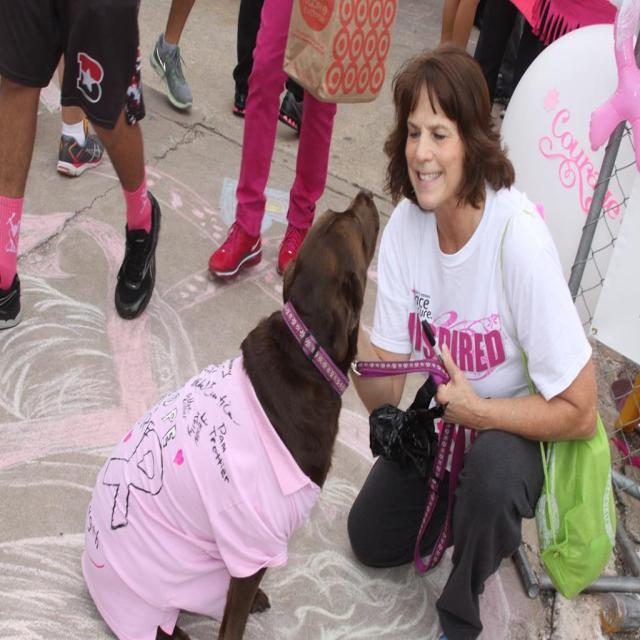Dog: (80, 186, 380, 638)
